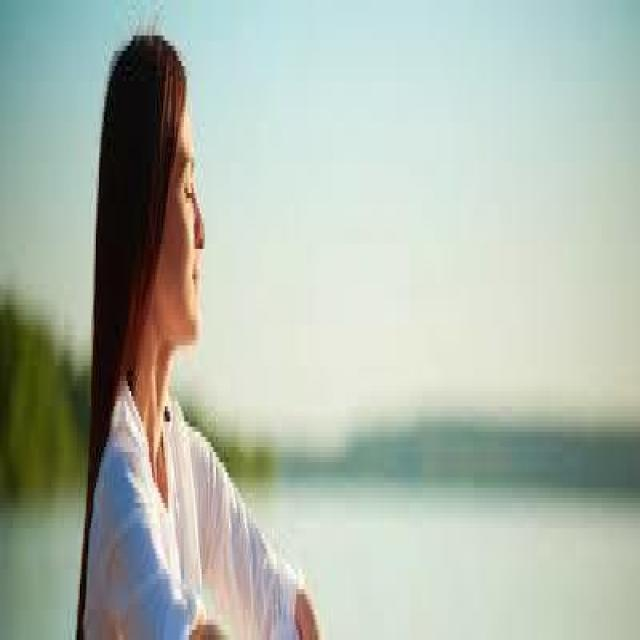person: (78, 20, 328, 630)
